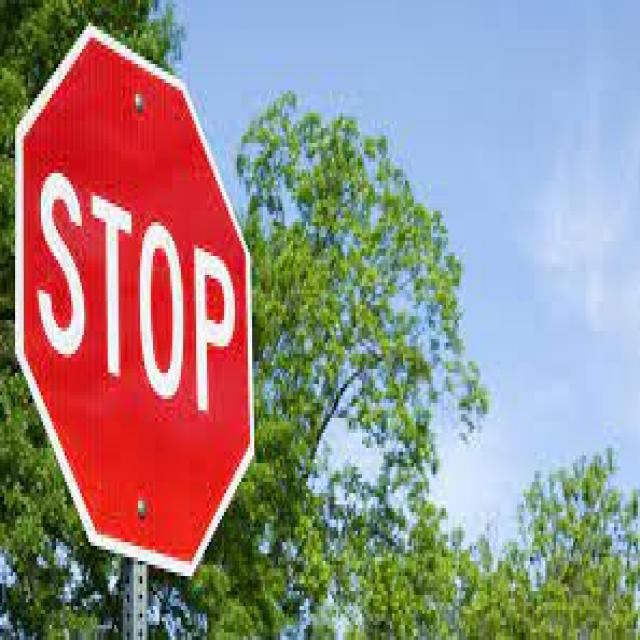stop-sign: (18, 22, 266, 570)
